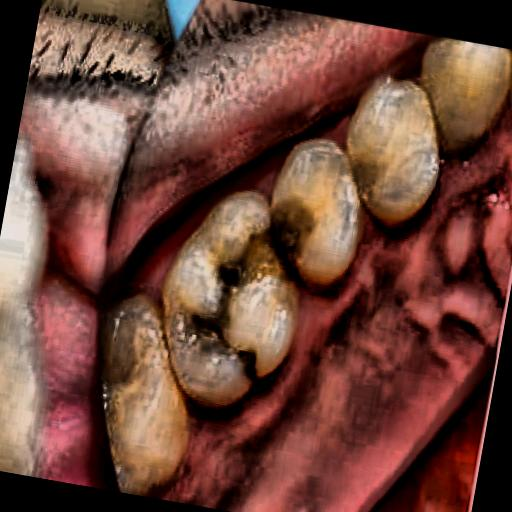Caries: (144, 163, 366, 383)
